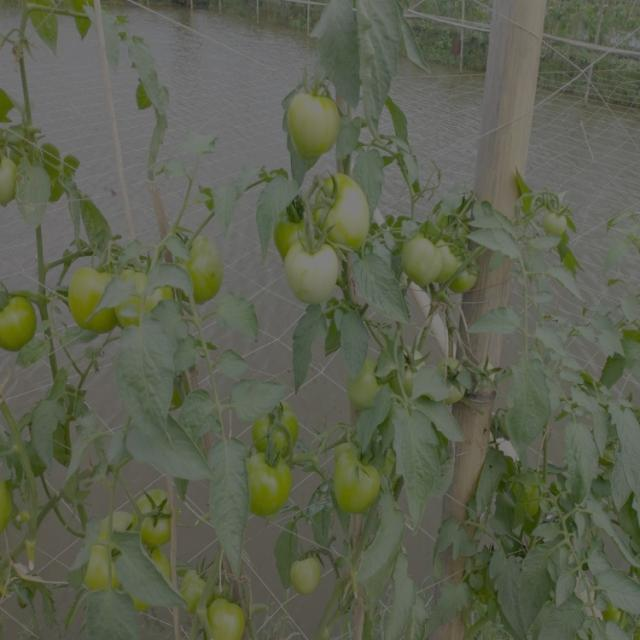tomato: (69, 250, 130, 336), (284, 76, 347, 158), (283, 236, 344, 310), (327, 440, 381, 517), (316, 177, 374, 246), (120, 254, 177, 323), (247, 458, 298, 518), (180, 231, 222, 302), (3, 283, 40, 357), (403, 225, 444, 286), (256, 405, 305, 456), (208, 584, 252, 640), (137, 489, 178, 547), (83, 540, 126, 594), (351, 355, 388, 416), (511, 475, 550, 531), (447, 233, 482, 293), (138, 551, 174, 608), (541, 192, 575, 246), (393, 340, 429, 391), (274, 197, 312, 245), (292, 551, 327, 602), (183, 559, 211, 612), (1, 148, 24, 210), (98, 505, 137, 541), (2, 480, 25, 538), (440, 355, 467, 402), (473, 359, 496, 391)
